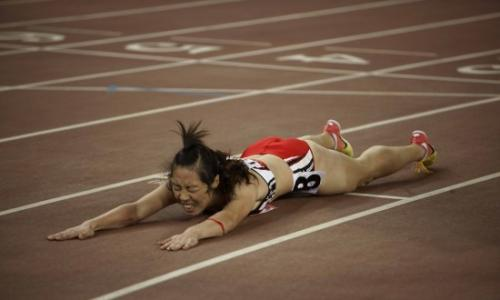fall: (50, 108, 448, 254)
